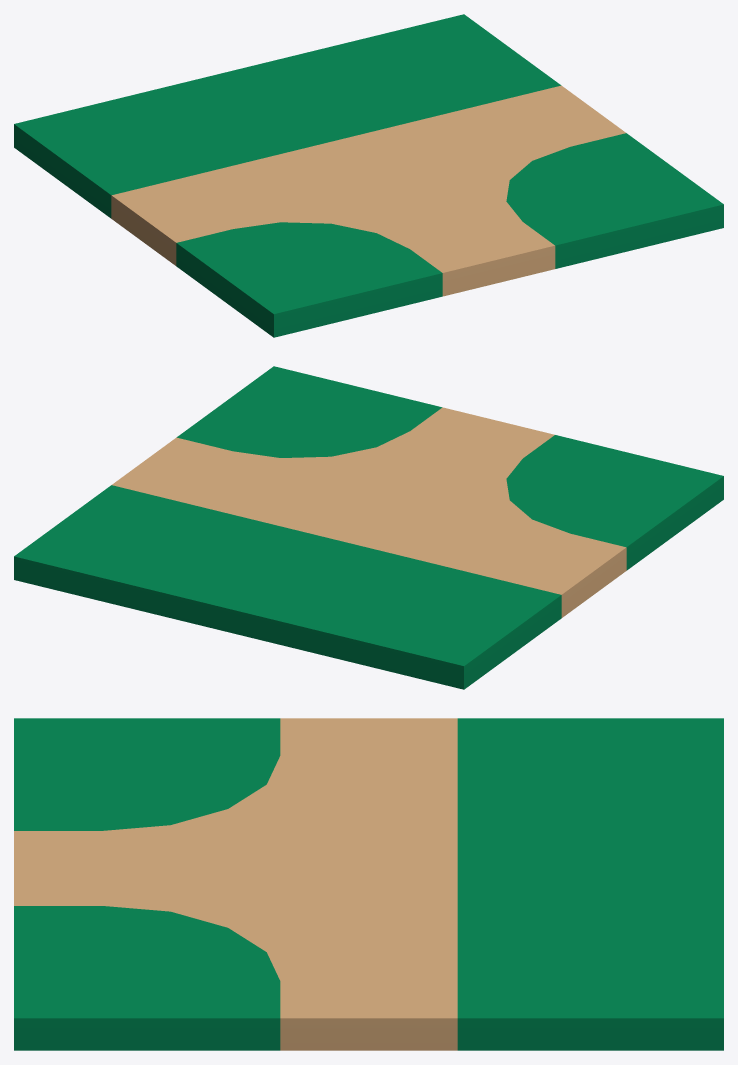
Rendered from park_road_tsplit.glb.
3 renders of one model, top to bottom at view 1: azimuth 30°, elevation 25°; view 2: azimuth 150°, elevation 25°; view 3: azimuth 270°, elevation 25°, orthographic. The views are drawn at different scales.
Parts seen in each view (by area): view 1: park_road_tsplit; view 2: park_road_tsplit; view 3: park_road_tsplit.
Part boxes in pixels (box(x1,y1,x2,y2)): park_road_tsplit: box(14, 14, 723, 337); park_road_tsplit: box(14, 366, 723, 689); park_road_tsplit: box(14, 718, 723, 1050).
Bounding box in the file's own units: 2 × 0.1 × 2.
1 material, 1 textured.
